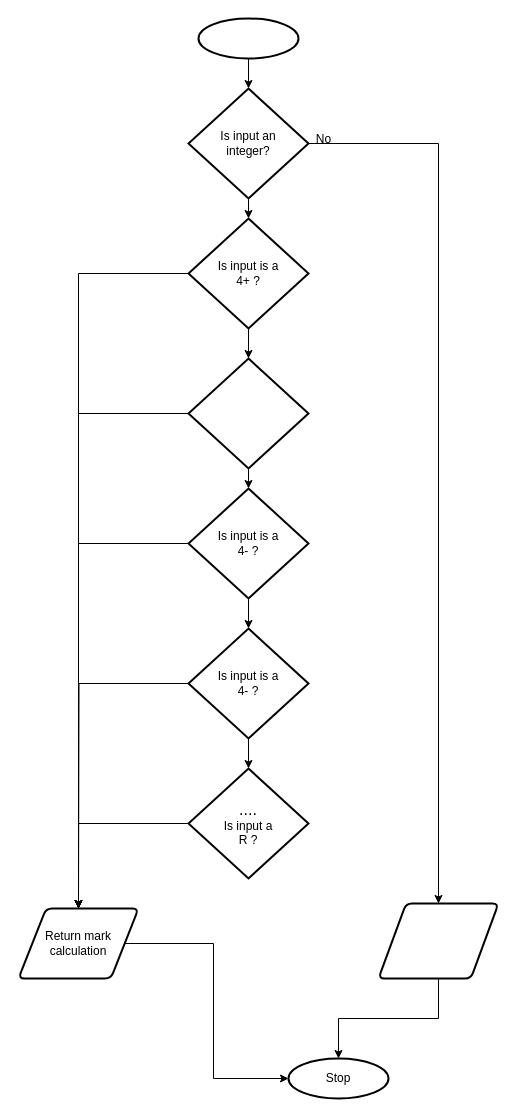
Image size: 516x1116. Some labels were removed from this diagram. The shapes that lost their labels are listed below. From the top down, each one's centre as x and y in pixels, then its label:
point (248, 38): Start
point (248, 413): Is input is a 4?
point (438, 940): return -1
